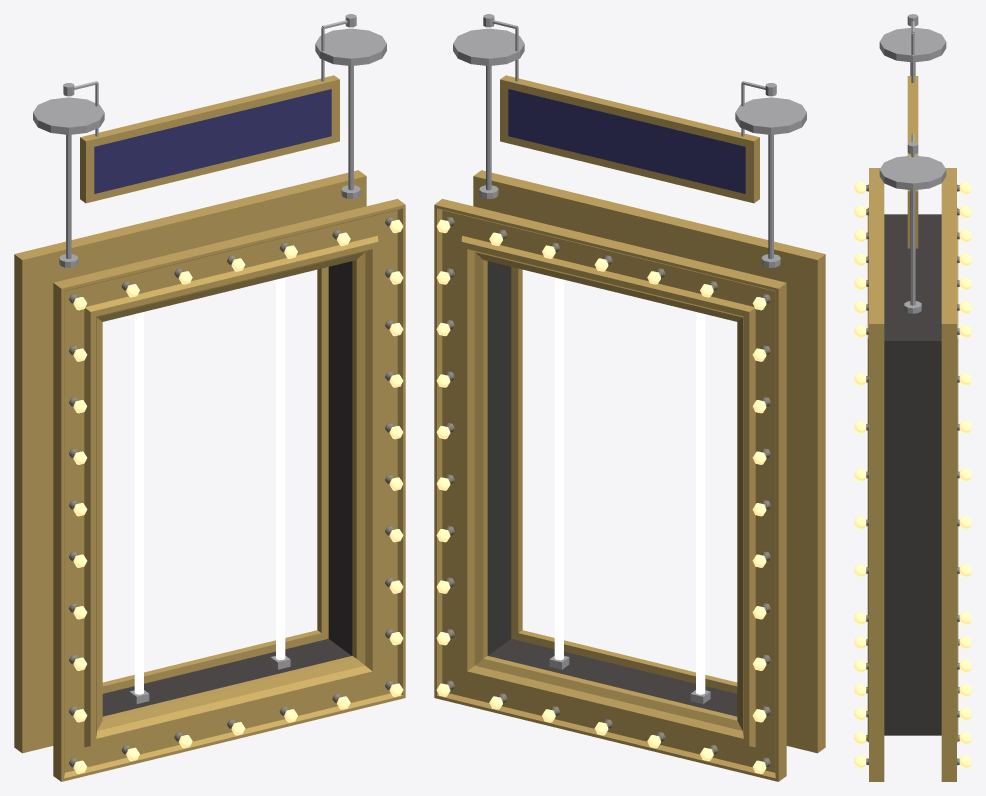
File: now-showing-lightbox.glb
3 views of the same model, side by side, from view 1: azimuth 30°, elevation 25°; view 2: azimuth 150°, elevation 25°; view 3: azimuth 270°, elevation 25° (orthographic). The views are drawn at different scales.
Visible parts, largest first — view 1: FrameFront, FrameBack, LightboxShell, PlaqueFace, InteriorTubes, PlaqueBody, Bulbs, Canopy_L, Canopy_R, PorcelainSocket, PlaqueHardware, Rod_R (+1 smaller); view 2: FrameBack, FrameFront, LightboxShell, PlaqueFace, InteriorTubes, PlaqueBody, Bulbs, Canopy_L, Canopy_R, PorcelainSocket, PlaqueHardware, Rod_R (+1 smaller); view 3: LightboxShell, FrameFront, FrameBack, Bulbs, Canopy_R, Canopy_L, PlaqueBody, NickelNeck, Rod_R, PlaqueHardware, PorcelainSocket.
Boxes of the visible parts, bbox=[...] form: FrameFront: bbox=[53, 199, 405, 781]; FrameBack: bbox=[14, 170, 366, 753]; LightboxShell: bbox=[102, 261, 352, 716]; PlaqueFace: bbox=[94, 89, 331, 193]; InteriorTubes: bbox=[134, 277, 285, 694]; PlaqueBody: bbox=[80, 75, 339, 203]; Bulbs: bbox=[73, 219, 403, 773]; Canopy_L: bbox=[33, 97, 104, 134]; Canopy_R: bbox=[315, 28, 386, 65]; PorcelainSocket: bbox=[69, 216, 394, 767]; PlaqueHardware: bbox=[63, 14, 356, 136]; Rod_R: bbox=[348, 66, 353, 190]; FrameBack: bbox=[434, 199, 786, 781]; FrameFront: bbox=[473, 170, 825, 753]; LightboxShell: bbox=[487, 261, 737, 716]; PlaqueFace: bbox=[508, 89, 745, 193]; InteriorTubes: bbox=[554, 277, 705, 694]; PlaqueBody: bbox=[500, 75, 759, 203]; Bulbs: bbox=[436, 219, 766, 773]; Canopy_L: bbox=[735, 97, 806, 134]; Canopy_R: bbox=[453, 28, 524, 65]; PorcelainSocket: bbox=[445, 216, 770, 767]; PlaqueHardware: bbox=[483, 14, 776, 136]; Rod_R: bbox=[486, 66, 491, 190]; LightboxShell: bbox=[884, 214, 941, 735]; FrameFront: bbox=[867, 168, 884, 781]; FrameBack: bbox=[941, 168, 958, 781]; Bulbs: bbox=[854, 181, 971, 768]; Canopy_R: bbox=[879, 155, 946, 190]; Canopy_L: bbox=[879, 27, 946, 62]; PlaqueBody: bbox=[907, 76, 918, 248]; NickelNeck: bbox=[866, 185, 959, 764]; Rod_R: bbox=[910, 190, 915, 305]; PlaqueHardware: bbox=[907, 14, 918, 157]; PorcelainSocket: bbox=[868, 184, 957, 765].
Size of the model in its own units: 2.44 by 4.55 by 0.78.
